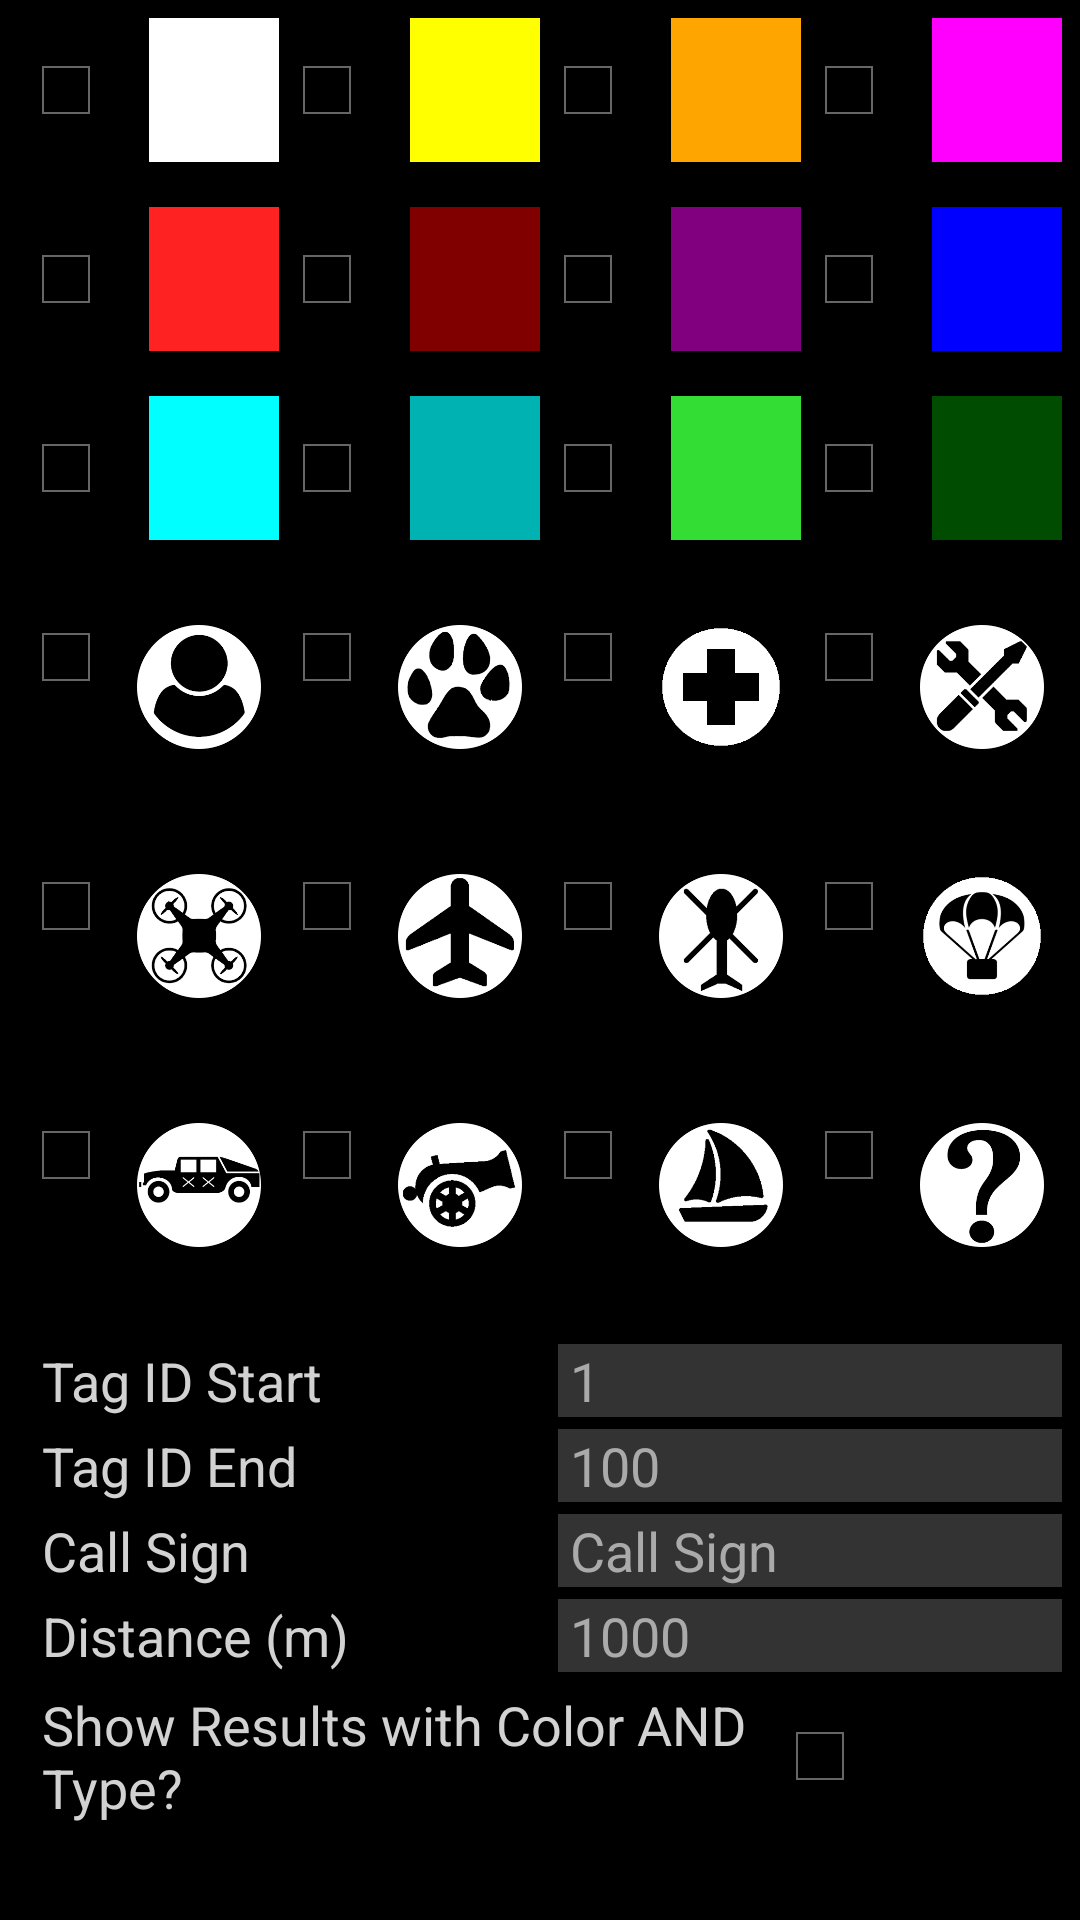

Screen size 1080 × 1920. Icon name, then its box in pixels as (x1, y1, x2, y2):
track boat: (659, 1123, 783, 1247)
track bundle: (923, 877, 1041, 995)
track custom: (920, 1123, 1044, 1247)
track equipment: (920, 625, 1044, 749)
track fixed: (398, 874, 522, 998)
track hound: (398, 625, 522, 749)
track medical: (662, 628, 780, 746)
track pax: (137, 625, 261, 749)
track rotary: (659, 874, 783, 998)
track uas: (137, 874, 261, 998)
track veh: (137, 1123, 261, 1247)
track weapon: (398, 1123, 522, 1247)
